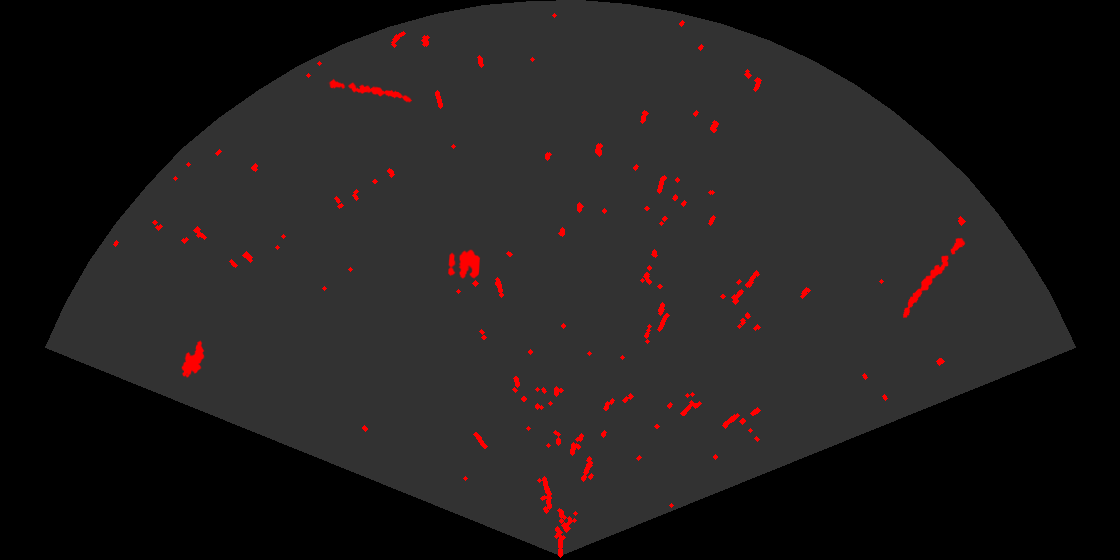AUV: (180, 339, 206, 379)
ball: (446, 248, 482, 280)
chain: (901, 236, 967, 319), (327, 77, 414, 104)
